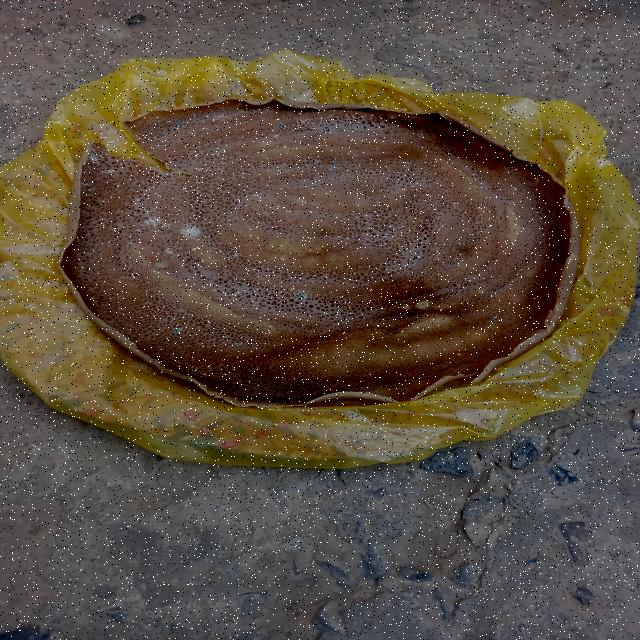injera_mold: (121, 198, 176, 232), (178, 222, 200, 241), (186, 363, 208, 379), (87, 147, 105, 165), (206, 110, 231, 122), (194, 164, 224, 173), (223, 249, 243, 262), (208, 147, 230, 158), (291, 290, 310, 301), (79, 181, 97, 192), (164, 247, 174, 256), (170, 327, 182, 334), (328, 165, 340, 172), (277, 122, 287, 130), (296, 118, 307, 125), (417, 132, 426, 139), (234, 341, 244, 347), (269, 134, 279, 139), (492, 314, 500, 320), (511, 185, 519, 191), (455, 352, 462, 358), (332, 157, 338, 163), (106, 170, 114, 174), (212, 125, 220, 129), (200, 258, 206, 263), (304, 132, 310, 137), (352, 153, 358, 158), (178, 123, 185, 127), (191, 247, 196, 252), (171, 128, 177, 132), (193, 120, 199, 124)
